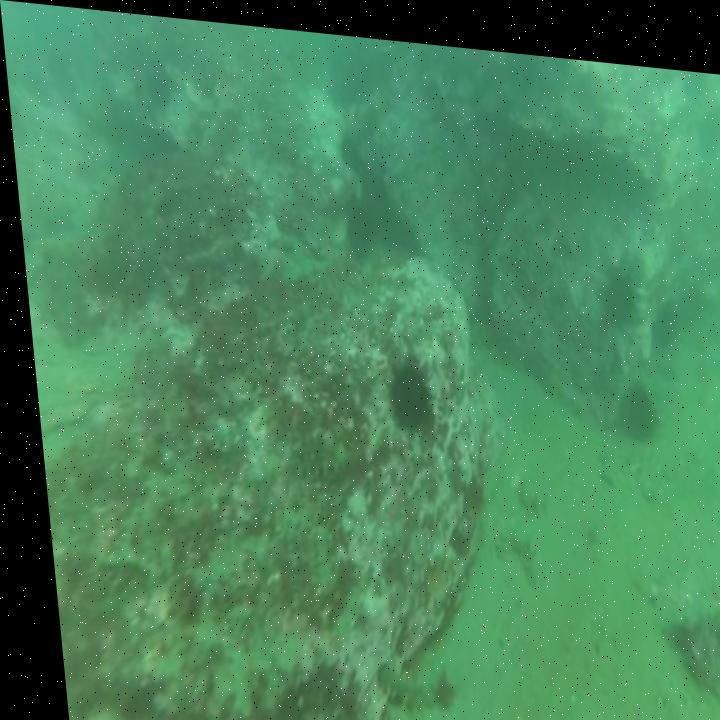echinus: (369, 334, 439, 433), (582, 238, 641, 330), (614, 359, 653, 437), (338, 185, 374, 262), (332, 110, 364, 180), (639, 283, 676, 340)
holothurian: (361, 651, 428, 713)
